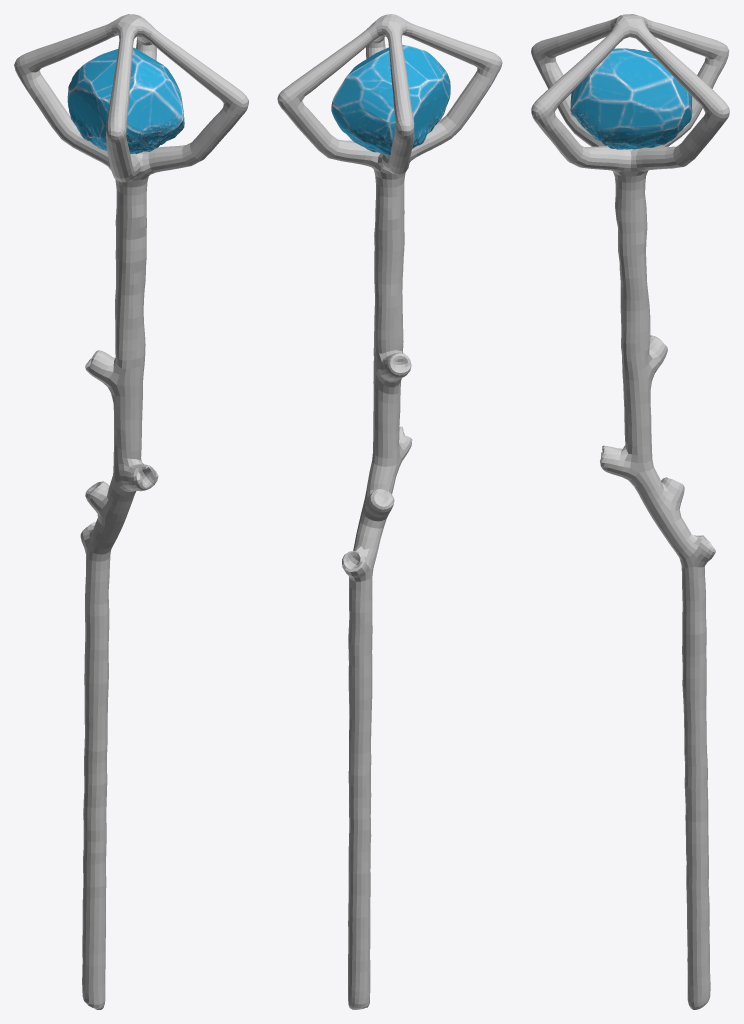
The model's file is Bug_catcher.fbx.
3 views of the same model, side by side, from view 1: azimuth 30°, elevation 25°; view 2: azimuth 150°, elevation 25°; view 3: azimuth 270°, elevation 25° (orthographic). The views are drawn at different scales.
Parts seen in each view (by area): view 1: Group2122; view 2: Group2122; view 3: Group2122.
Part boxes in pixels (x1,y1,x2,y2): Group2122: (14, 14, 248, 1009); Group2122: (277, 14, 502, 1009); Group2122: (531, 14, 729, 1009).
Size of the model in its own units: 1.89 by 13.09 by 2.38.
